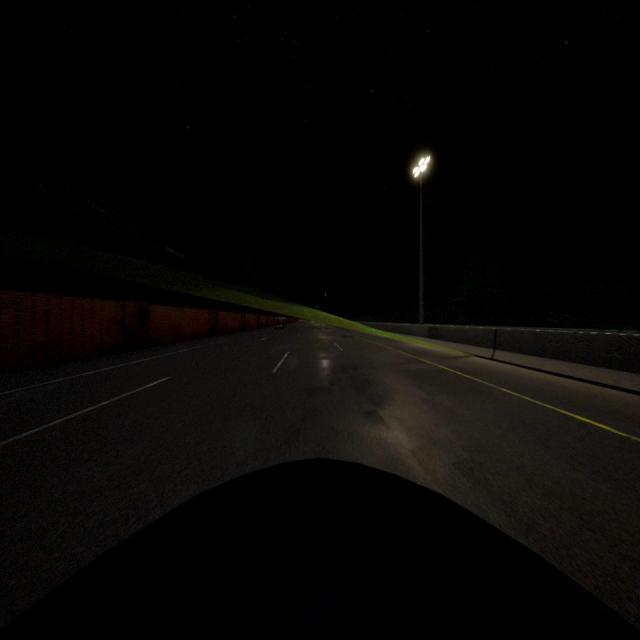Vehicle: (1, 456, 640, 640), (274, 316, 287, 330)
